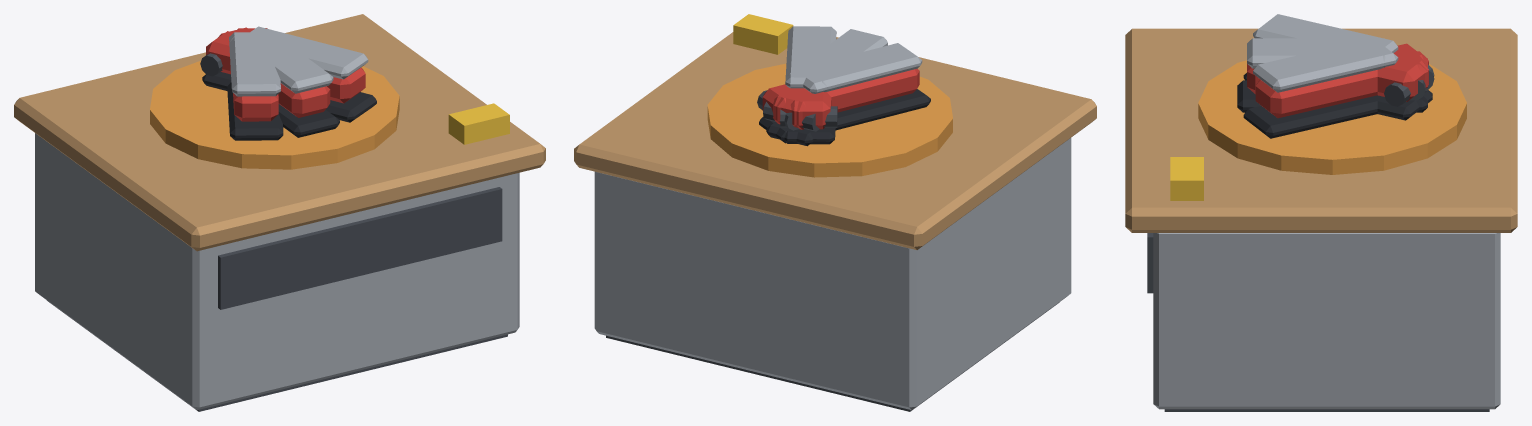
File: artillery_p1_3.glb
3 renders of one model, left to right at view 1: azimuth 30°, elevation 25°; view 2: azimuth 150°, elevation 25°; view 3: azimuth 270°, elevation 25°, orthographic. The views are drawn at different scales.
Parts seen in each view (by area): view 1: artillery_p1_3_mesh_Desk, artillery_p1_3_mesh; view 2: artillery_p1_3_mesh_Desk, artillery_p1_3_mesh; view 3: artillery_p1_3_mesh_Desk, artillery_p1_3_mesh.
Part boxes in pixels (x1=…): artillery_p1_3_mesh_Desk: x1=14, y1=14, x2=545, y2=411; artillery_p1_3_mesh: x1=150, y1=26, x2=509, y2=169; artillery_p1_3_mesh_Desk: x1=574, y1=32, x2=1096, y2=411; artillery_p1_3_mesh: x1=707, y1=14, x2=952, y2=177; artillery_p1_3_mesh_Desk: x1=1125, y1=28, x2=1517, y2=411; artillery_p1_3_mesh: x1=1170, y1=14, x2=1466, y2=200.
Size of the model in its own units: 0.78 by 0.5605 by 0.7.
